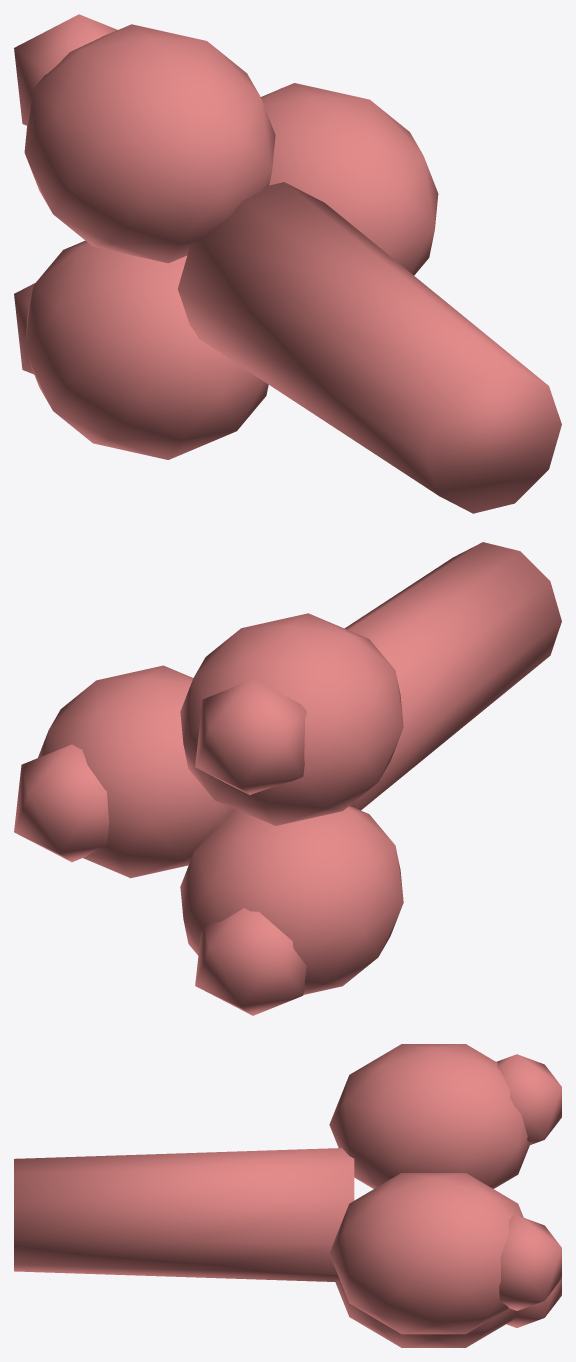
Rendered from receptor_fra.glb.
3 views of the same model, one above another, from view 1: azimuth 30°, elevation 25°; view 2: azimuth 150°, elevation 25°; view 3: azimuth 270°, elevation 25° (orthographic). The views are drawn at different scales.
Parts seen in each view (by area): view 1: Receptor_FR_Alpha; view 2: Receptor_FR_Alpha; view 3: Receptor_FR_Alpha.
Part boxes in pixels (x1,y1,x2,y2): Receptor_FR_Alpha: [14, 14, 561, 513]; Receptor_FR_Alpha: [14, 542, 561, 1015]; Receptor_FR_Alpha: [14, 1044, 561, 1347].
Size of the model in its own units: 0.8165 by 0.8573 by 1.45.
